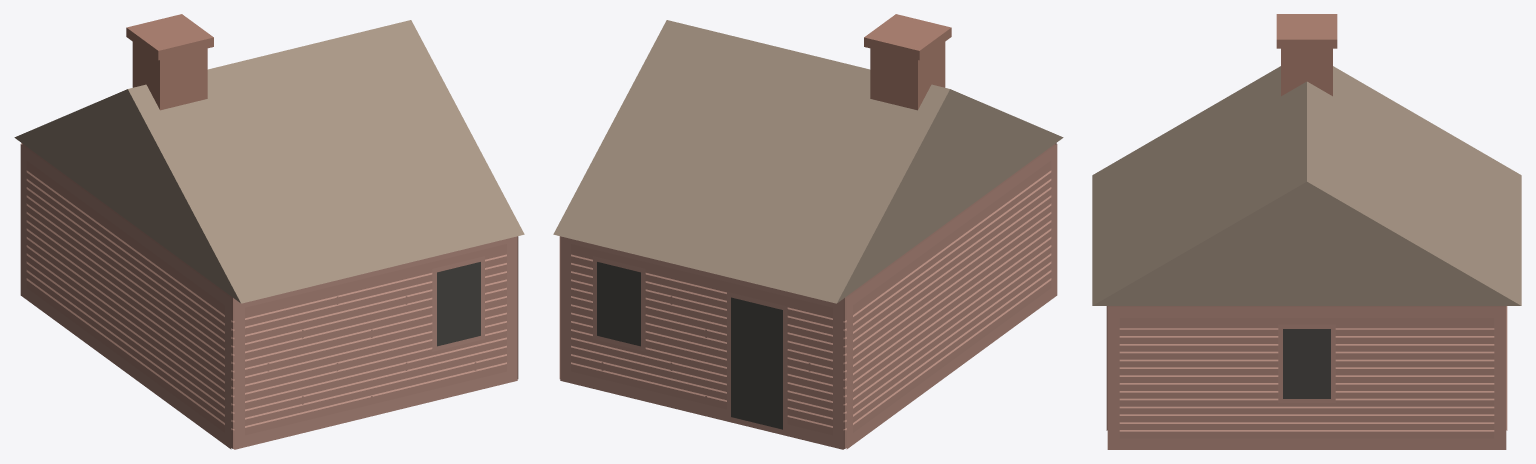
Rendered from recon_1835_blk_randolph_market_d3_04__inferred_1835.glb.
3 renders of one model, left to right at view 1: azimuth 30°, elevation 25°; view 2: azimuth 150°, elevation 25°; view 3: azimuth 270°, elevation 25°, orthographic. The views are drawn at different scales.
Visible parts, largest first — view 1: recon_1835_blk_randolph_market_d3_04__inferred_1835; view 2: recon_1835_blk_randolph_market_d3_04__inferred_1835; view 3: recon_1835_blk_randolph_market_d3_04__inferred_1835.
Part boxes in pixels (x1=…): recon_1835_blk_randolph_market_d3_04__inferred_1835: x1=14, y1=14, x2=524, y2=449; recon_1835_blk_randolph_market_d3_04__inferred_1835: x1=553, y1=14, x2=1063, y2=449; recon_1835_blk_randolph_market_d3_04__inferred_1835: x1=1092, y1=14, x2=1521, y2=449.
Size of the model in its own units: 5.09 by 5.56 by 6.95.
